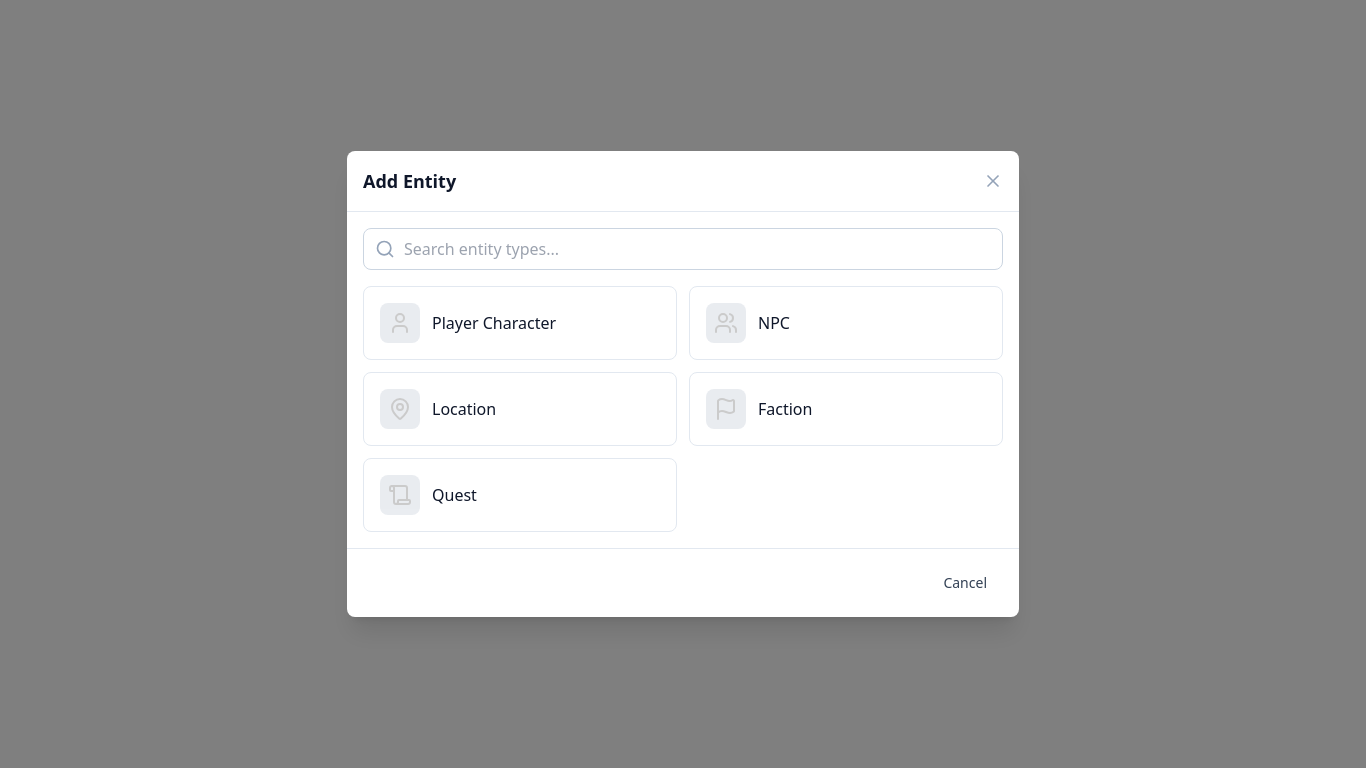
Test: QuickAddModal Component - Search/Filter Functionality › should perform case-insensitive search
In the field: (683, 249) x1=363 y1=228 x2=1003 y2=270, type "LOCATION"
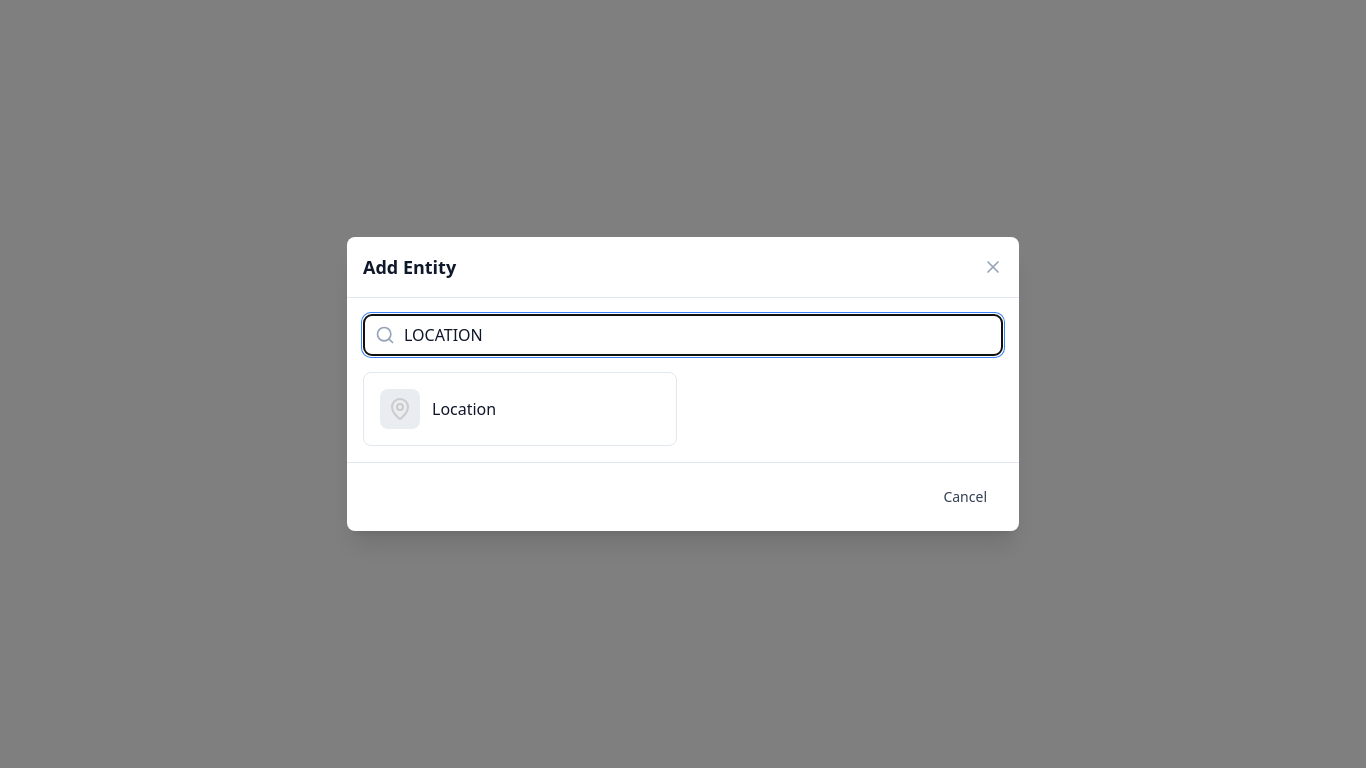
Expected: the text "Location" is shown, x1=432 y1=398 x2=496 y2=420
Now the button "Player Character" is gone
Now the button "Faction" is gone
